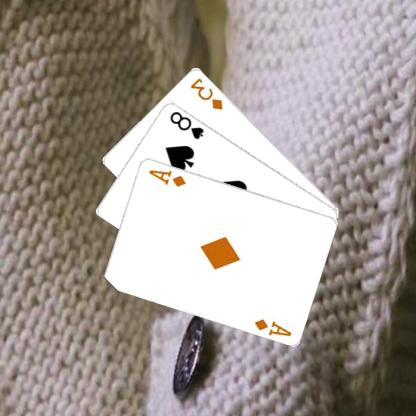3D: (189, 74, 226, 111)
8S: (168, 108, 206, 141)
AD: (148, 166, 189, 188), (254, 316, 294, 337)
